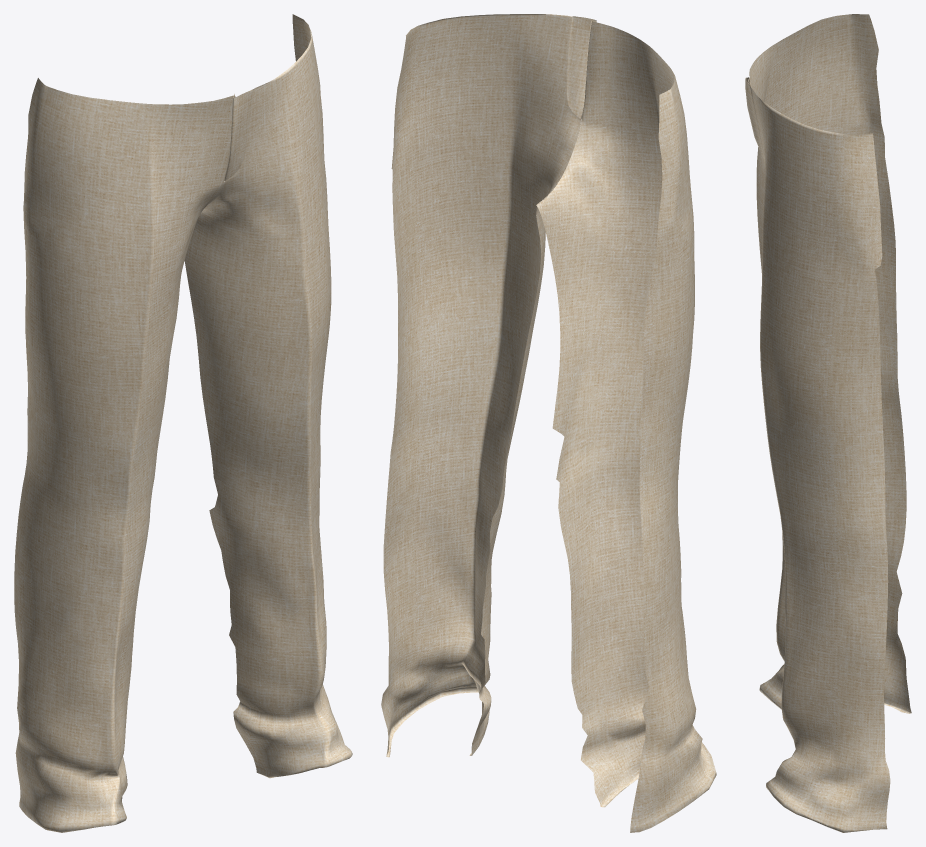
Rendered from pleat_none.glb.
3 renders of one model, left to right at view 1: azimuth 30°, elevation 25°; view 2: azimuth 150°, elevation 25°; view 3: azimuth 270°, elevation 25°, orthographic. The views are drawn at different scales.
Visible parts, largest first — view 1: pleat_none1; view 2: pleat_none1; view 3: pleat_none1.
Boxes of the visible parts, box(x1,y1,x2,y2) form: pleat_none1: box(14, 14, 352, 832); pleat_none1: box(381, 14, 716, 832); pleat_none1: box(745, 14, 911, 832).
Bounding box in the file's own units: 0.0545 × 0.1247 × 0.027.
Materials: 1 (1 with a texture image).
